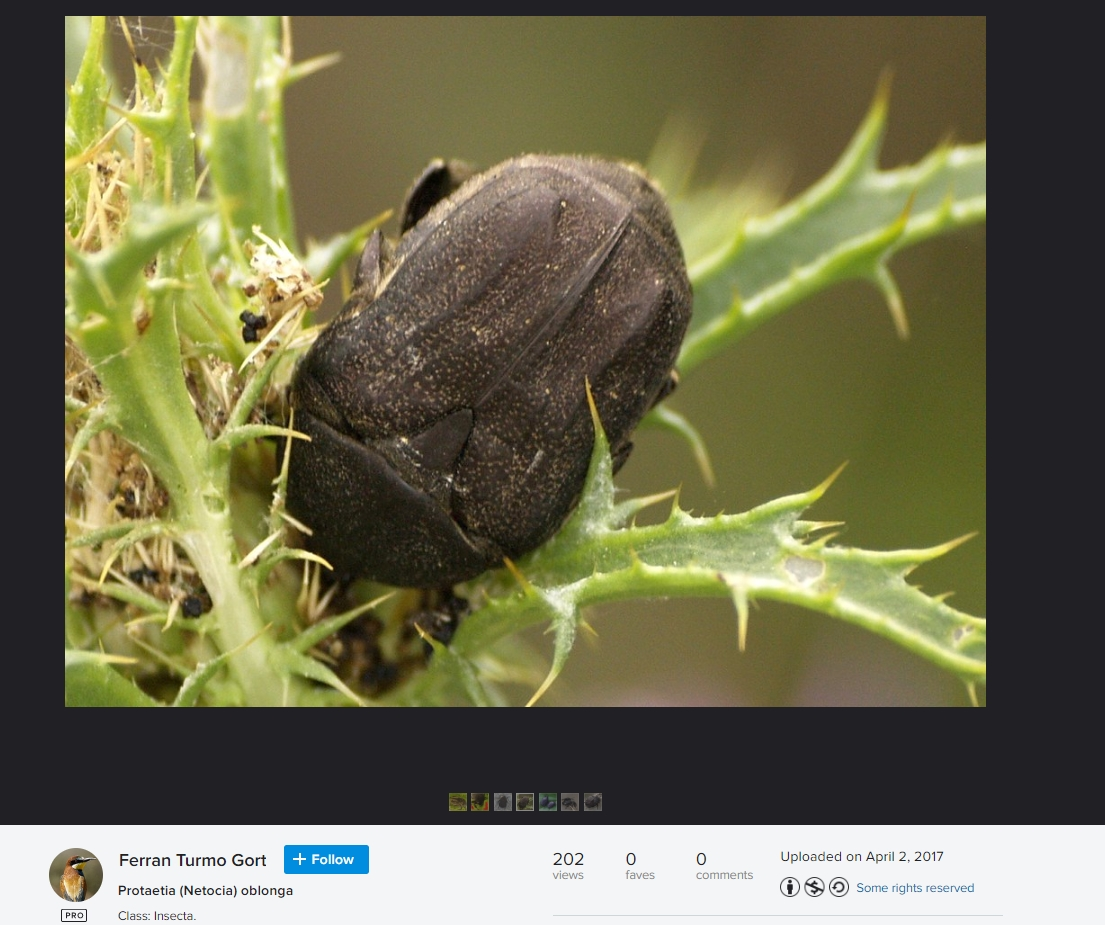Protaetia_oblonga: (262, 134, 708, 636)
